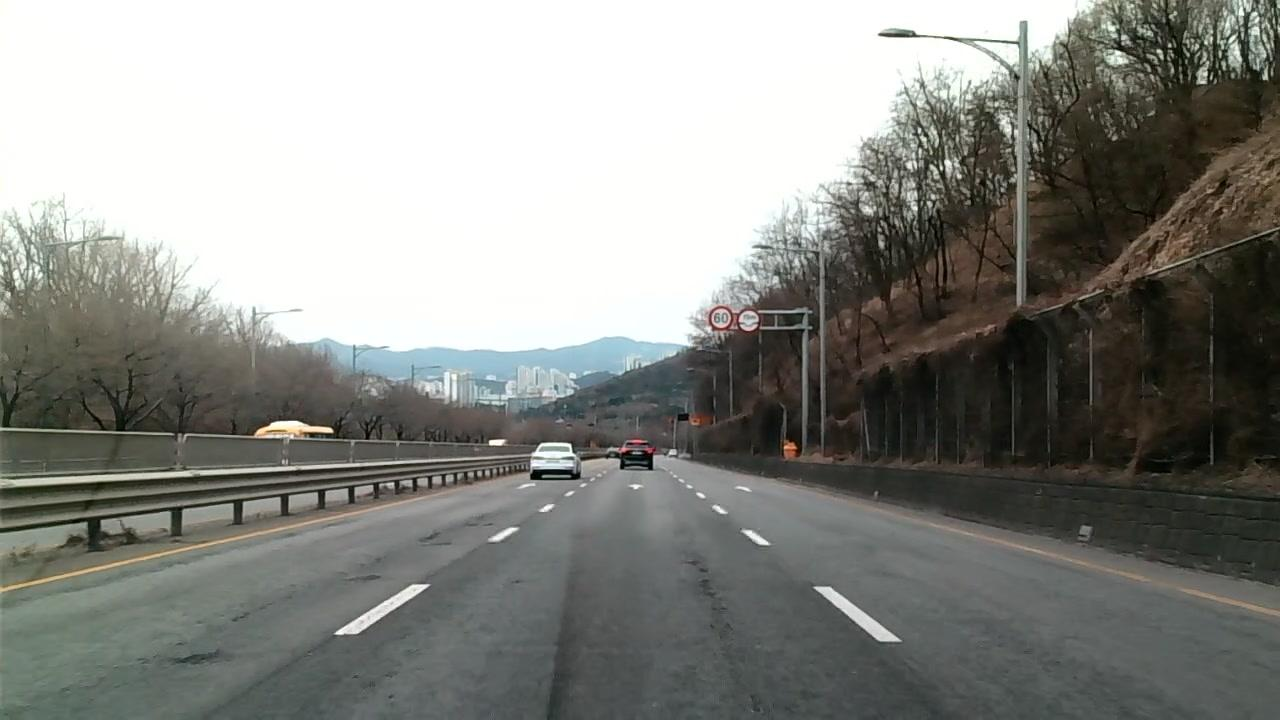banner: (698, 577, 772, 717), (215, 593, 285, 623), (171, 642, 236, 671), (342, 553, 384, 585), (417, 528, 454, 553), (681, 557, 712, 576), (465, 514, 498, 529)
